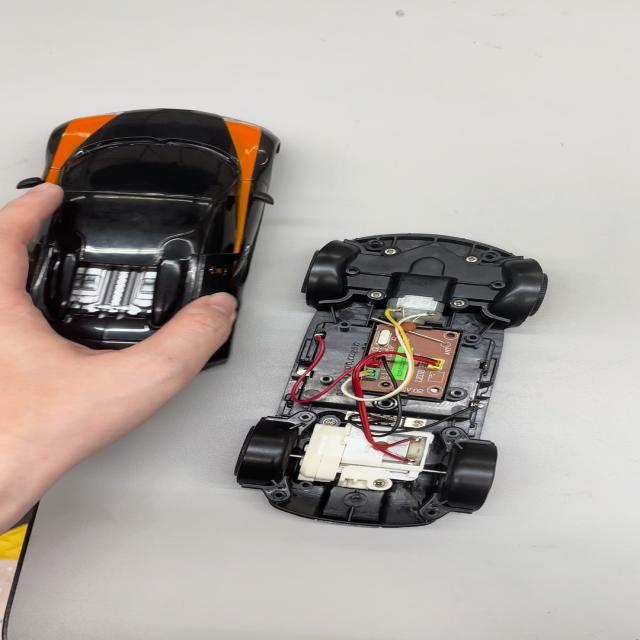Chassis: (243, 231, 545, 525)
vehicle_body: (8, 104, 298, 369)
